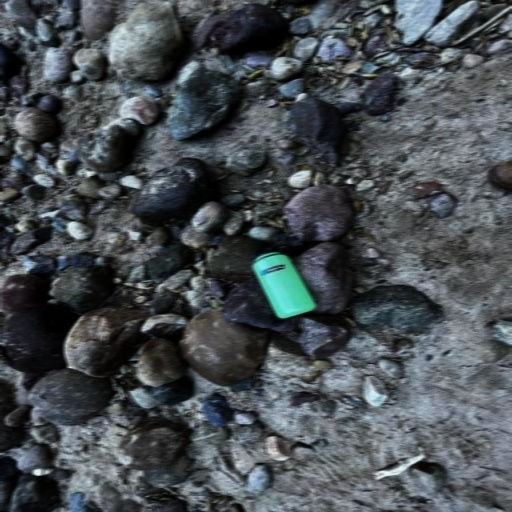bottle: (252, 244, 316, 319)
